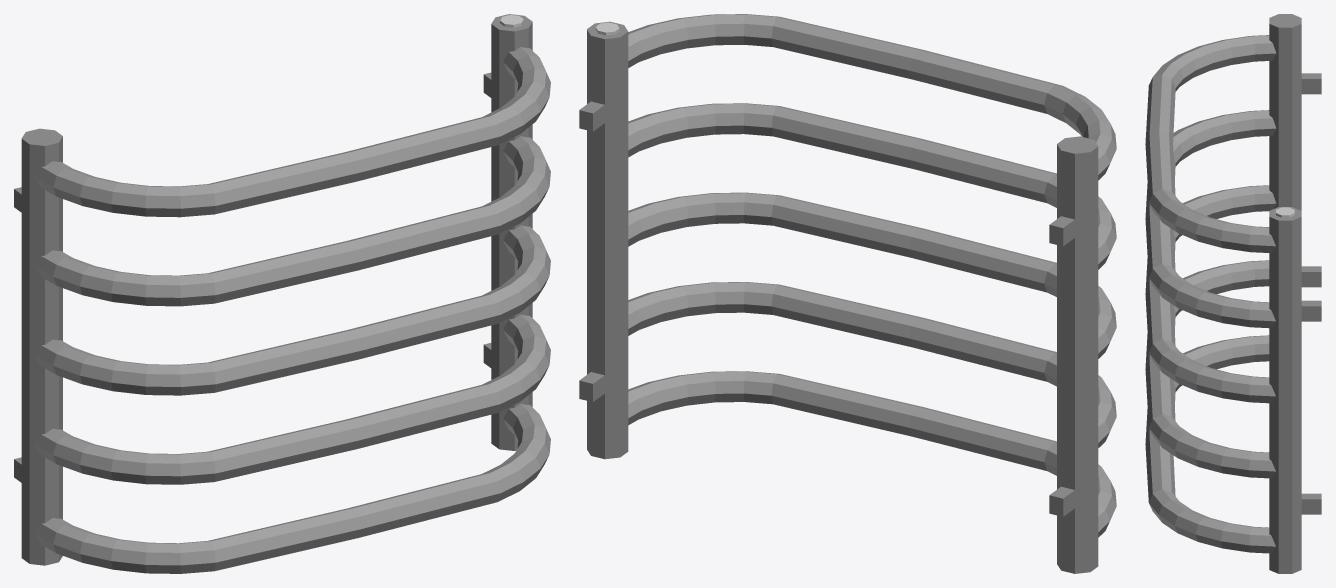
The model's file is TowelRail_03.fbx.
The picture shows the model from 3 angles, left to right: view 1: azimuth 30°, elevation 25°; view 2: azimuth 150°, elevation 25°; view 3: azimuth 270°, elevation 25°; orthographic projection. The views are drawn at different scales.
Visible parts, largest first — view 1: TowelRail_03; view 2: TowelRail_03; view 3: TowelRail_03.
Boxes of the visible parts, left/top/right/bottom form: TowelRail_03: left=14, top=14, right=550, bottom=573; TowelRail_03: left=579, top=14, right=1116, bottom=573; TowelRail_03: left=1145, top=14, right=1321, bottom=573.
Bounding box in the file's own units: 61.26 × 49.17 × 22.05.
